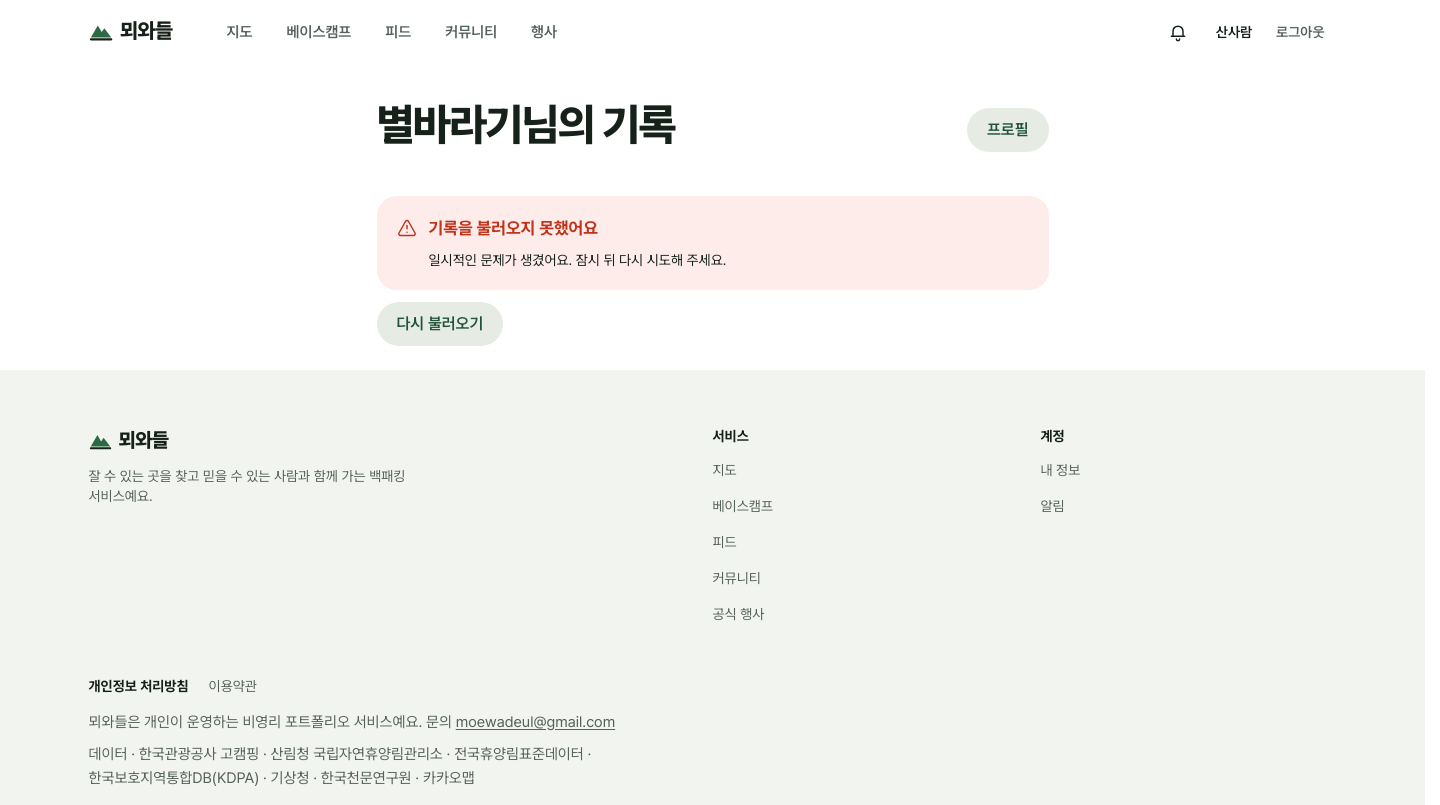
it: 다른 회원의 기록 화면 › 불러오지 못하면 오류 문구가 나오고, 다시 불러오기를 누르면 기록이 나온다
Click the button "다시 불러오기".
click(440, 324)  # box [376,302,503,346]
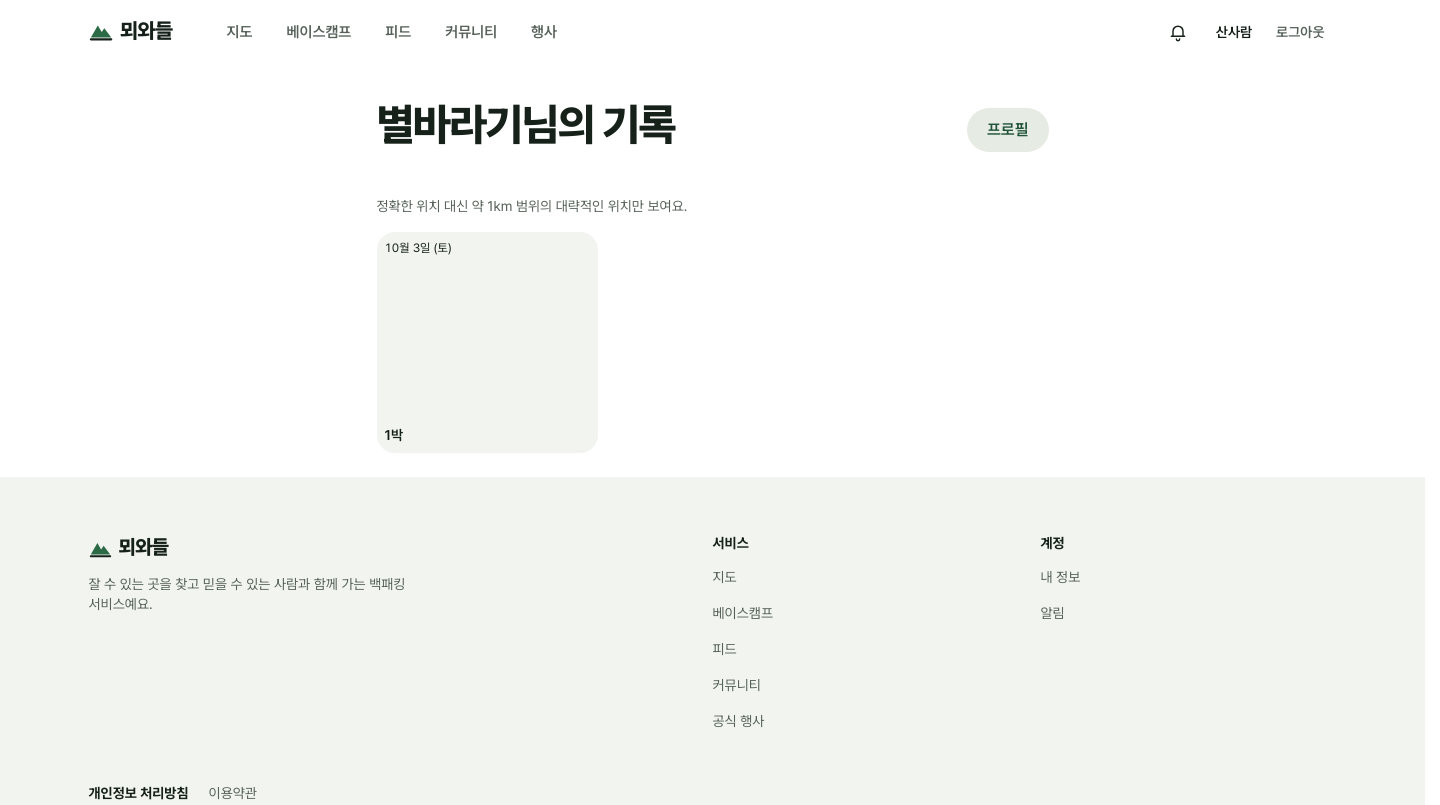
Check: the link to "/memories/11" is shown, box [376,232,598,453]
Check: the text "기록을 불러오지 못했어요" is gone
